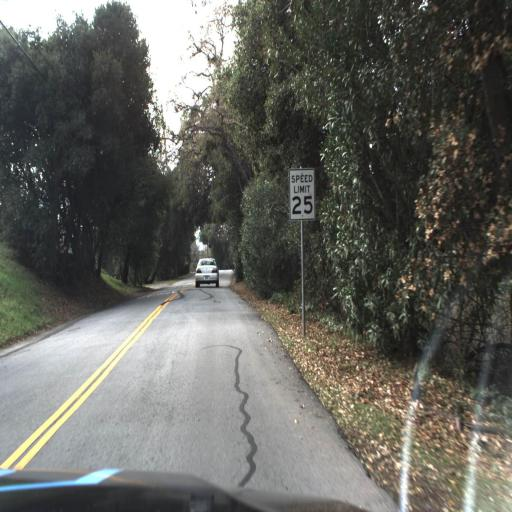car: (191, 252, 222, 292)
